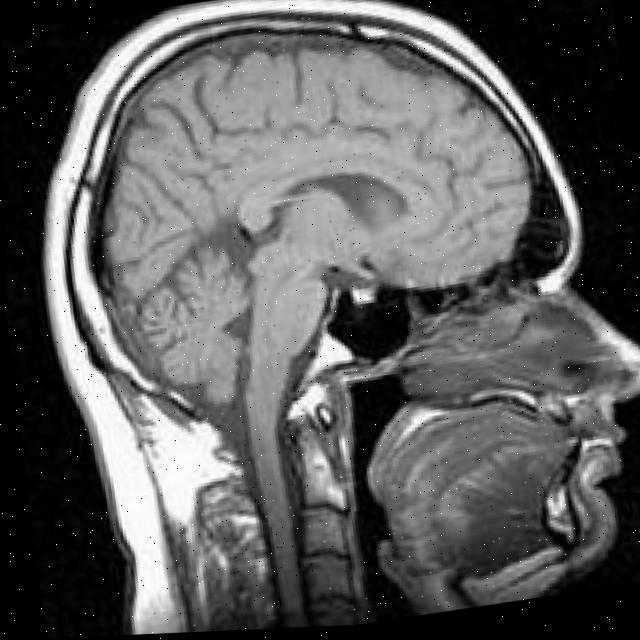NoTumor: (9, 0, 600, 428)
